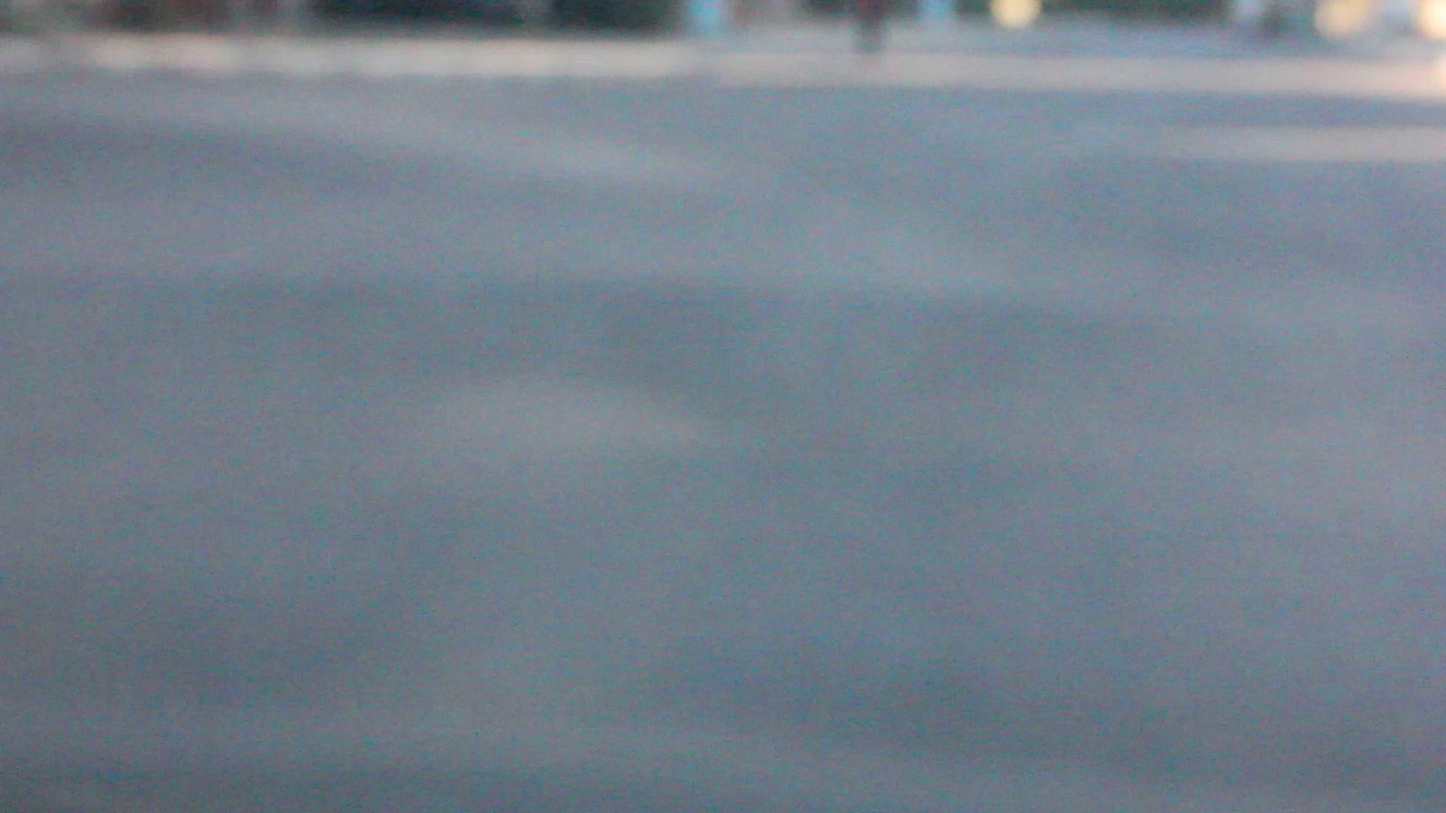Bump: (17, 271, 1446, 433)
